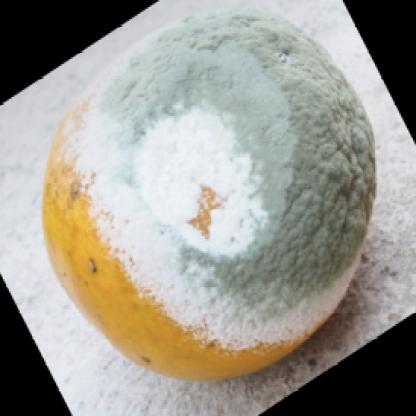rotten: (46, 14, 378, 384)
